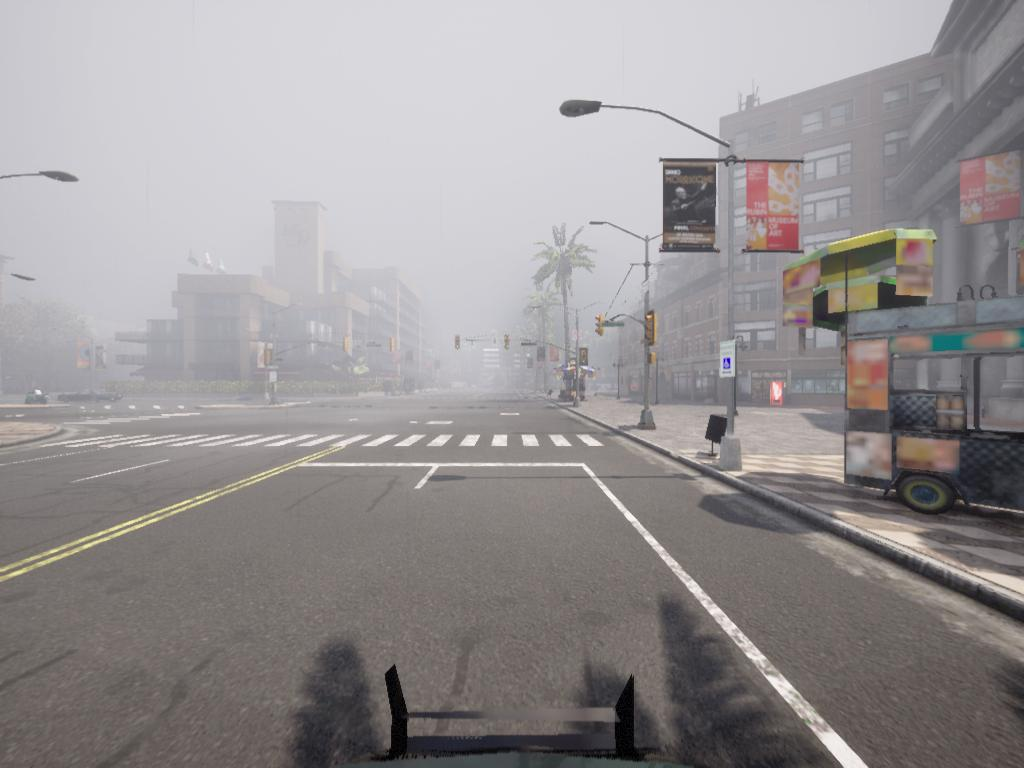traffic_light: (647, 312, 660, 344), (265, 349, 274, 370), (597, 318, 607, 336), (581, 349, 589, 368), (454, 336, 462, 350), (390, 338, 397, 354), (343, 338, 349, 355), (502, 337, 510, 349)
